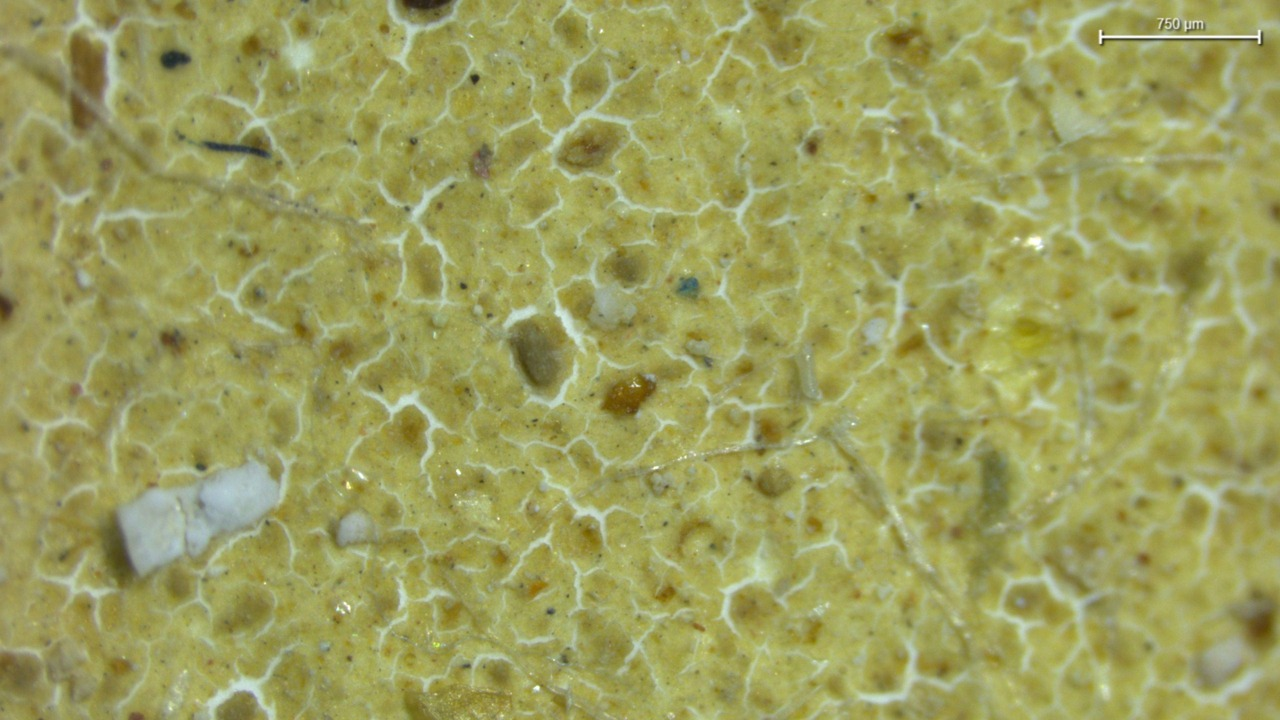microplastic_fragment: (117, 462, 281, 574), (510, 321, 562, 389), (335, 510, 378, 547)
